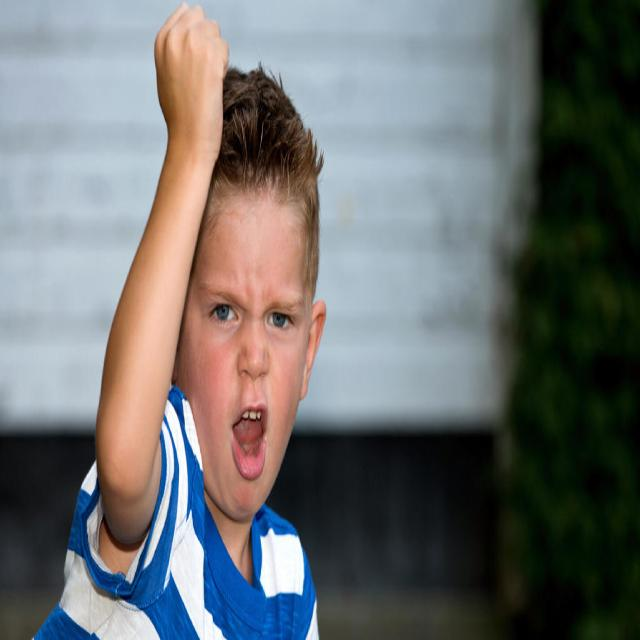child: (26, 0, 332, 640)
